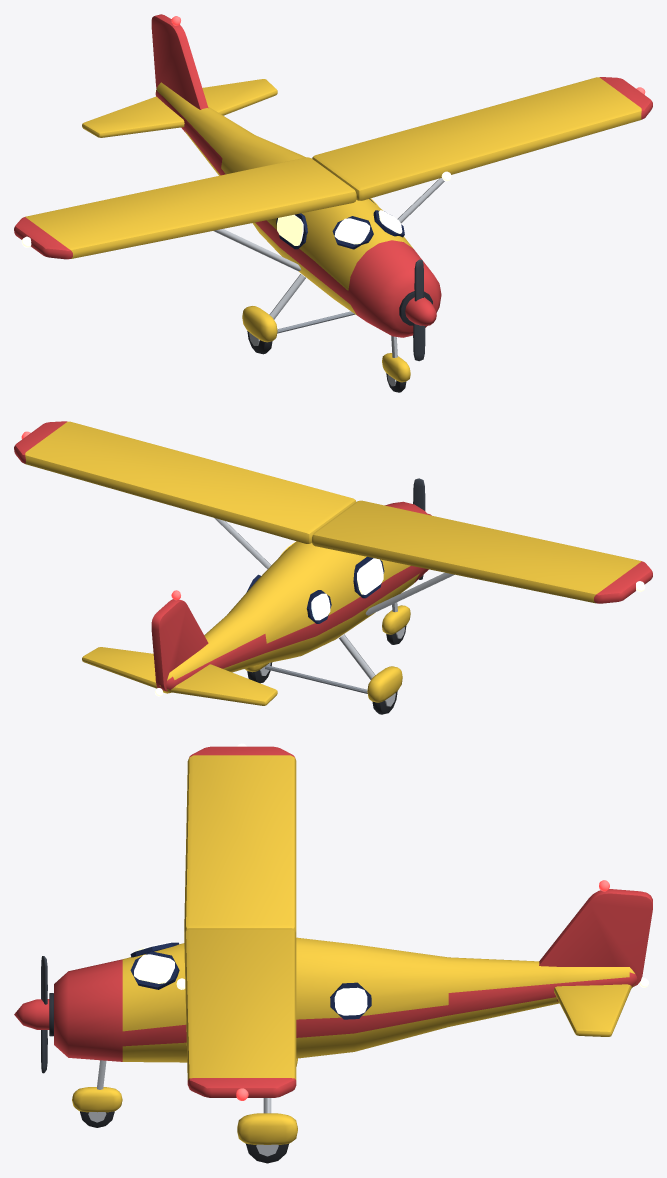
The model's file is aviao_teco_teco_amarelo.glb.
3 views of the same model, one above another, from view 1: azimuth 30°, elevation 25°; view 2: azimuth 150°, elevation 25°; view 3: azimuth 270°, elevation 25° (orthographic). The views are drawn at different scales.
Visible parts, largest first — view 1: aviao_teco_teco_amarelo, helice; view 2: aviao_teco_teco_amarelo, rodas_principais; view 3: aviao_teco_teco_amarelo, helice, rodas_principais.
Boxes of the visible parts, <box> form: aviao_teco_teco_amarelo: <box>14,14,652,382</box>; helice: <box>405,259,436,361</box>; aviao_teco_teco_amarelo: <box>14,421,652,705</box>; rodas_principais: <box>247,662,397,714</box>; aviao_teco_teco_amarelo: <box>49,743,652,1144</box>; helice: <box>14,956,49,1073</box>; rodas_principais: <box>245,1143,289,1163</box>.
Bounding box in the file's own units: 11.44 × 3.76 × 8.82.
Materials: 5 (1 with a texture image).
